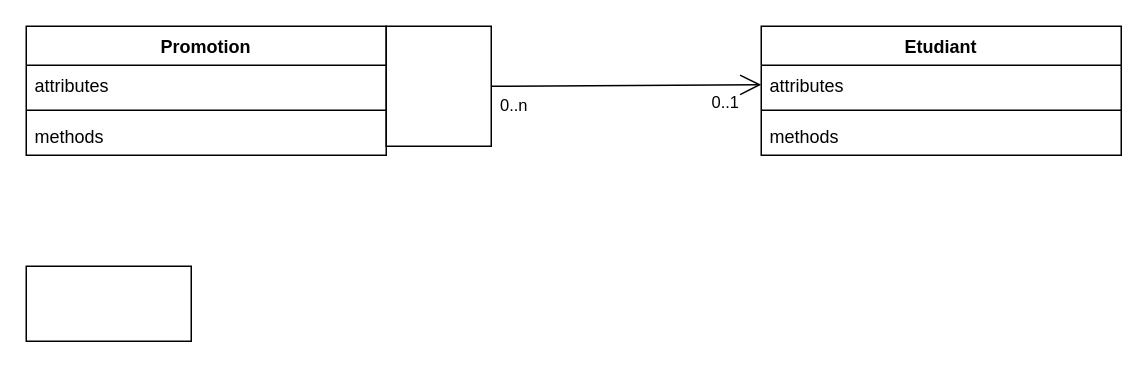
Image size: 1148x368. Some labels were removed from this diagram. Each missing label, with the centre of its shape:
"0..n = *" belongs at [108,303].
"codeEtu" belongs at [438,85].
